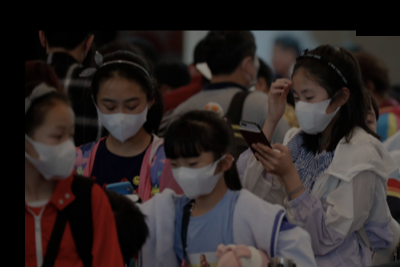with_mask: (167, 147, 222, 197), (96, 90, 147, 141), (36, 119, 78, 179), (290, 83, 335, 134)
